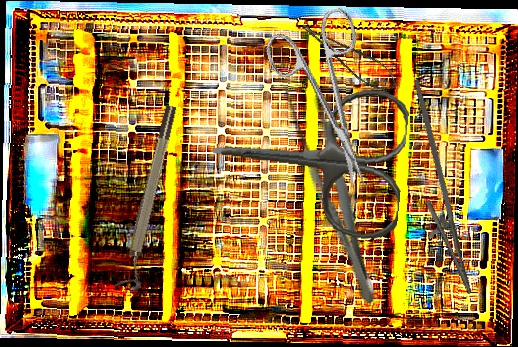Dressing Forceps: (277, 74, 391, 311)
Fixation Ring: (114, 103, 188, 293)
Iris Scissors: (205, 74, 411, 243), (260, 5, 399, 200)
Micro Scissor: (299, 8, 403, 102)
Needle Holder: (373, 78, 498, 301)
